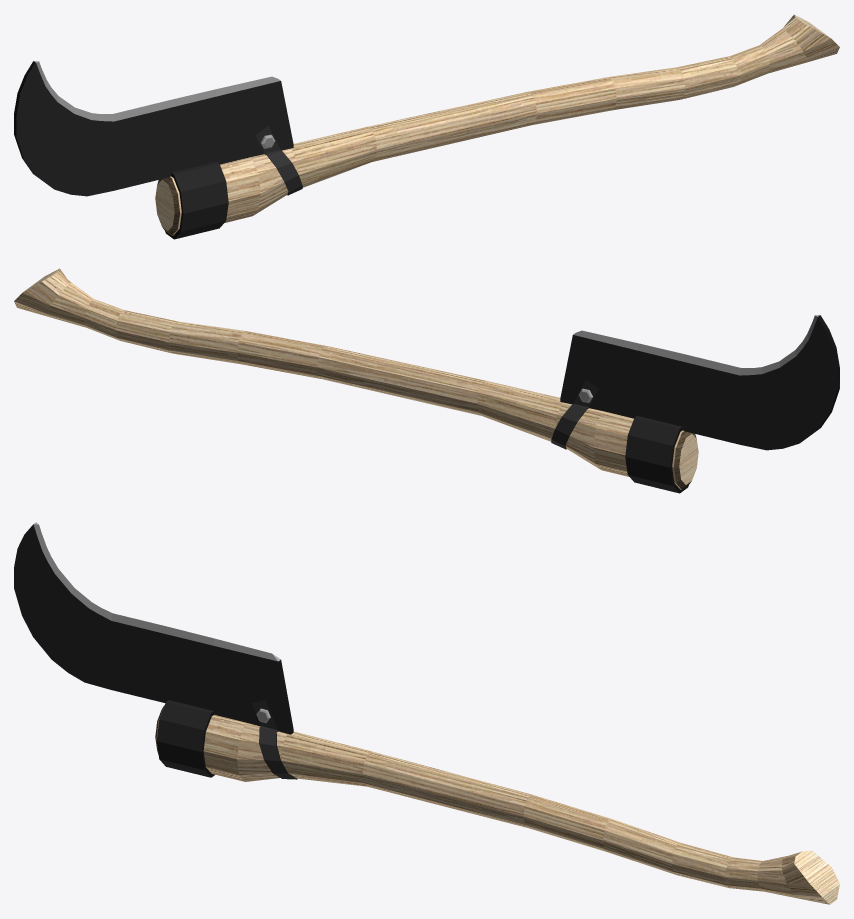
The model's file is BrushHook.fbx.
3 views of the same model, one above another, from view 1: azimuth 30°, elevation 25°; view 2: azimuth 150°, elevation 25°; view 3: azimuth 330°, elevation 25° (orthographic).
Parts seen in each view (by area): view 1: ZomboidBrushHook; view 2: ZomboidBrushHook; view 3: ZomboidBrushHook.
Boxes of the visible parts, x1,y1,x2,y2 form: ZomboidBrushHook: (14, 14, 839, 239); ZomboidBrushHook: (14, 268, 839, 493); ZomboidBrushHook: (14, 522, 839, 904).
Size of the model in its own units: 0.6635 by 0.1609 by 0.0374.
